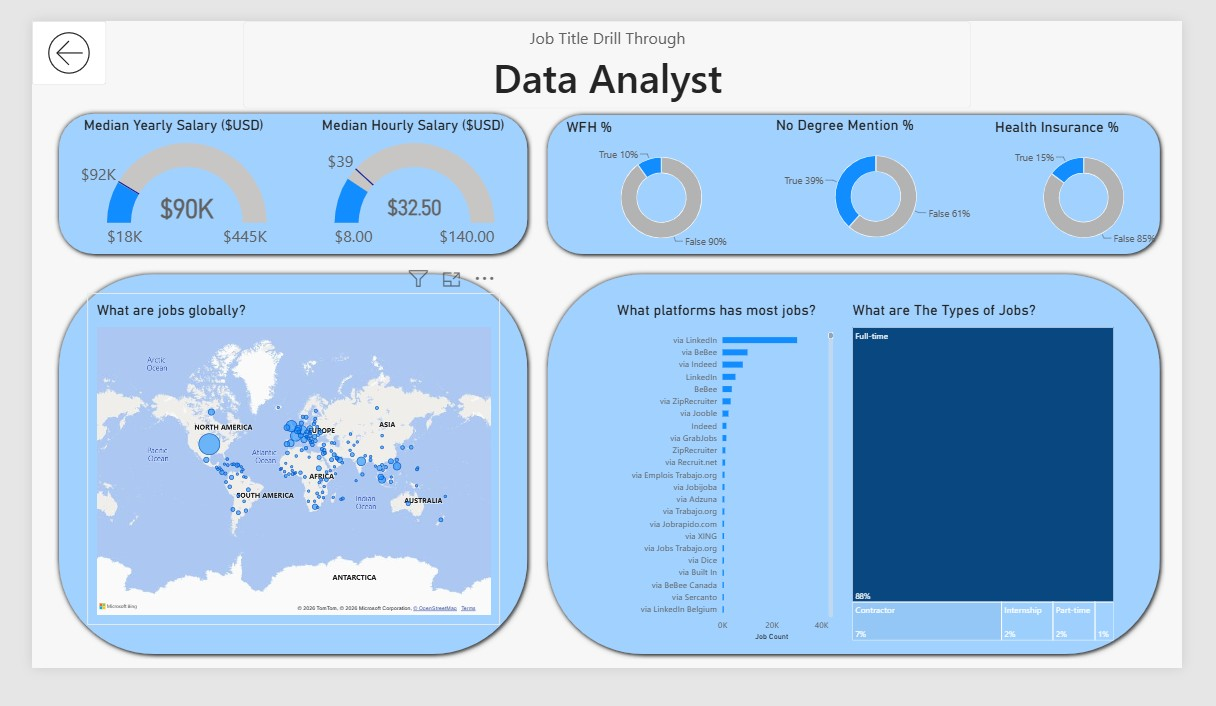

The dashboard page shown, as its layout file describes it:
{"tool":"powerbi","page":{"name":"Job Title Drill Through","canvas":[1920,1080],"ordinal":1},"visuals":[{"type":"group","id":"g1","title":"Background","box":[36,146,1856,920],"z":500},{"type":"cardVisual","fields":{"Data":["Min(job_postings_flat.job_title_short)1"]},"box":[352,0,1216,146],"z":1000},{"type":"actionButton","box":[0,0,124,106],"z":2000},{"type":"gauge","title":"Median Yearly Salary ($USD)","fields":{"MaxValue":["Max(job_postings_flat.salary_year_avg)2"],"MinValue":["Min(job_postings_flat.salary_year_avg)1"],"TargetValue":["Avg(job_postings_flat.salary_year_avg)3"],"Y":["Median(job_postings_flat.salary_year_avg)"]},"box":[36,146,400,252],"z":3000},{"type":"gauge","title":"Median Hourly Salary ($USD)","fields":{"MaxValue":["Max(job_postings_flat.salary_hour_avg)2"],"MinValue":["Min(job_postings_flat.salary_hour_avg)1"],"TargetValue":["Avg(job_postings_flat.salary_hour_avg)3"],"Y":["Median(job_postings_flat.salary_hour_avg)"]},"box":[436,146,400,252],"z":4000},{"type":"donutChart","title":"WFH %","fields":{"Category":["job_postings_flat.job_work_from_home"],"Y":["CountNonNull(job_postings_flat.job_work_from_home)"]},"box":[876,148,350,252],"z":5000},{"type":"donutChart","title":"No Degree Mention %","fields":{"Category":["job_postings_flat.job_no_degree_mention"],"Y":["CountNonNull(job_postings_flat.job_work_from_home)"]},"box":[1226,146,366,252],"z":6000},{"type":"donutChart","title":"Health Insurance %","fields":{"Category":["job_postings_flat.job_health_insurance"],"Y":["CountNonNull(job_postings_flat.job_work_from_home)"]},"box":[1592,148,328,252],"z":7000},{"type":"map","title":"What are jobs globally?","fields":{"Category":["job_postings_flat.job_country"],"Size":["CountNonNull(job_postings_flat.job_title_short)"]},"box":[92,454,690,554],"z":8000},{"type":"treemap","title":"What are The Types of Jobs?","fields":{"Group":["job_postings_flat.job_schedule_type"],"Values":["CountNonNull(job_postings_flat.job_schedule_type)"]},"box":[1354,454,468,596],"z":9000},{"type":"barChart","title":"What platforms has most jobs?","fields":{"Category":["job_postings_flat.job_via"],"Y":["CountNonNull(job_postings_flat.job_title_short)"]},"box":[932,454,422,596],"z":10000},{"type":"shape","box":[36,414,800,652],"z":11000,"group":"g1"},{"type":"shape","box":[852,414,1040,652],"z":12000,"group":"g1"},{"type":"shape","box":[36,146,800,252],"z":13000,"group":"g1"},{"type":"shape","box":[852,148,1040,250],"z":13500,"group":"g1"}]}

Visuals, with their boxes on the page's 1920x1080 design canvas (x1, y1, x2, y2). These are canvas units, not pixel positions in the 1216x706 screenshot, which may show the page scaled, cropped or inside an application window:
"Background" group: 36, 146, 1892, 1066
cardVisual - Min(job_postings_flat.job_title_short)1: 352, 0, 1568, 146
actionButton: 0, 0, 124, 106
"Median Yearly Salary ($USD)" gauge: 36, 146, 436, 398
"Median Hourly Salary ($USD)" gauge: 436, 146, 836, 398
"WFH %" donutChart: 876, 148, 1226, 400
"No Degree Mention %" donutChart: 1226, 146, 1592, 398
"Health Insurance %" donutChart: 1592, 148, 1920, 400
"What are jobs globally?" map: 92, 454, 782, 1008
"What are The Types of Jobs?" treemap: 1354, 454, 1822, 1050
"What platforms has most jobs?" barChart: 932, 454, 1354, 1050
shape: 36, 414, 836, 1066
shape: 852, 414, 1892, 1066
shape: 36, 146, 836, 398
shape: 852, 148, 1892, 398
